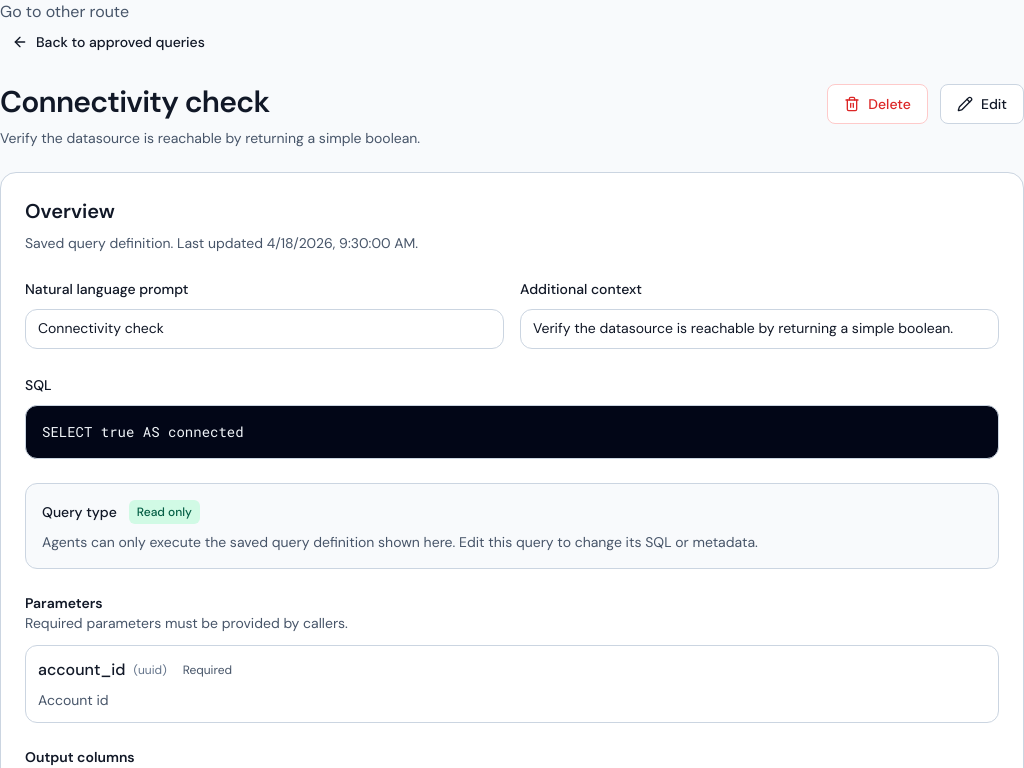
it: QueryDetailPage › renders the saved query read-only and routes to edit
Expected: the heading "Connectivity check" is shown, [0,82,269,121]
Click the button "Edit".
click(982, 104)  # box [940,84,1023,124]
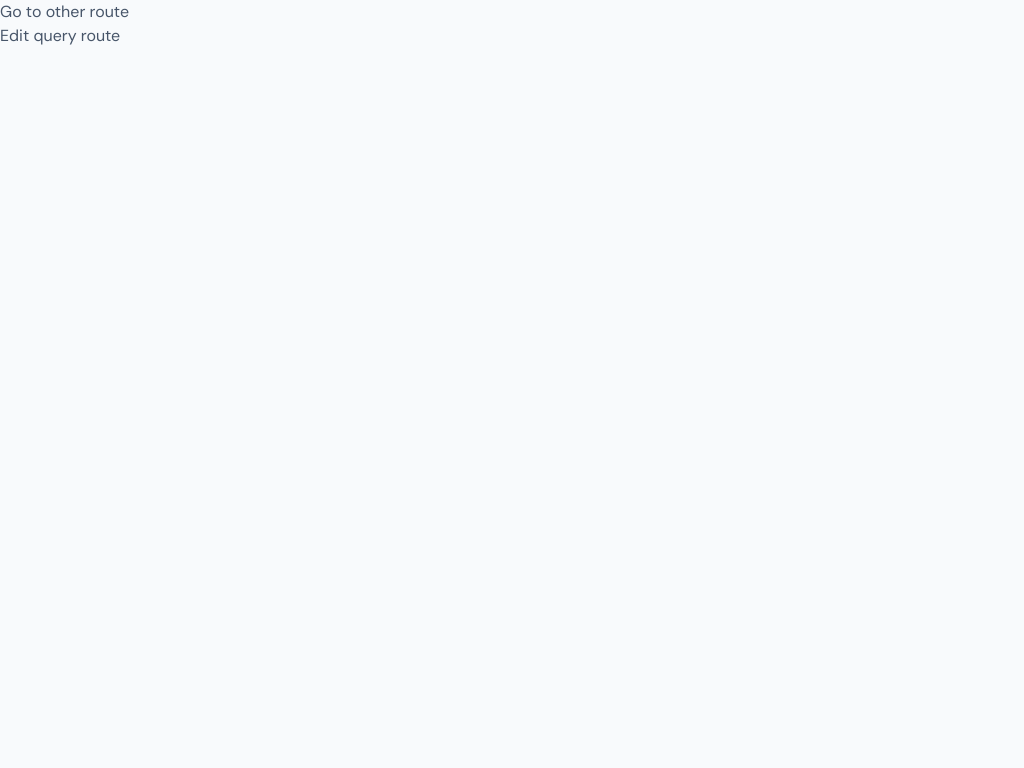
Now the text "Edit query route" is shown, box [0,25,120,46]
